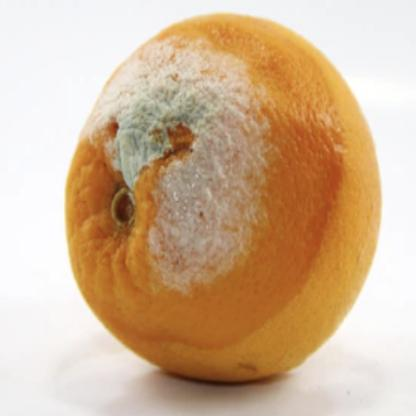rotten: (66, 12, 381, 385)
